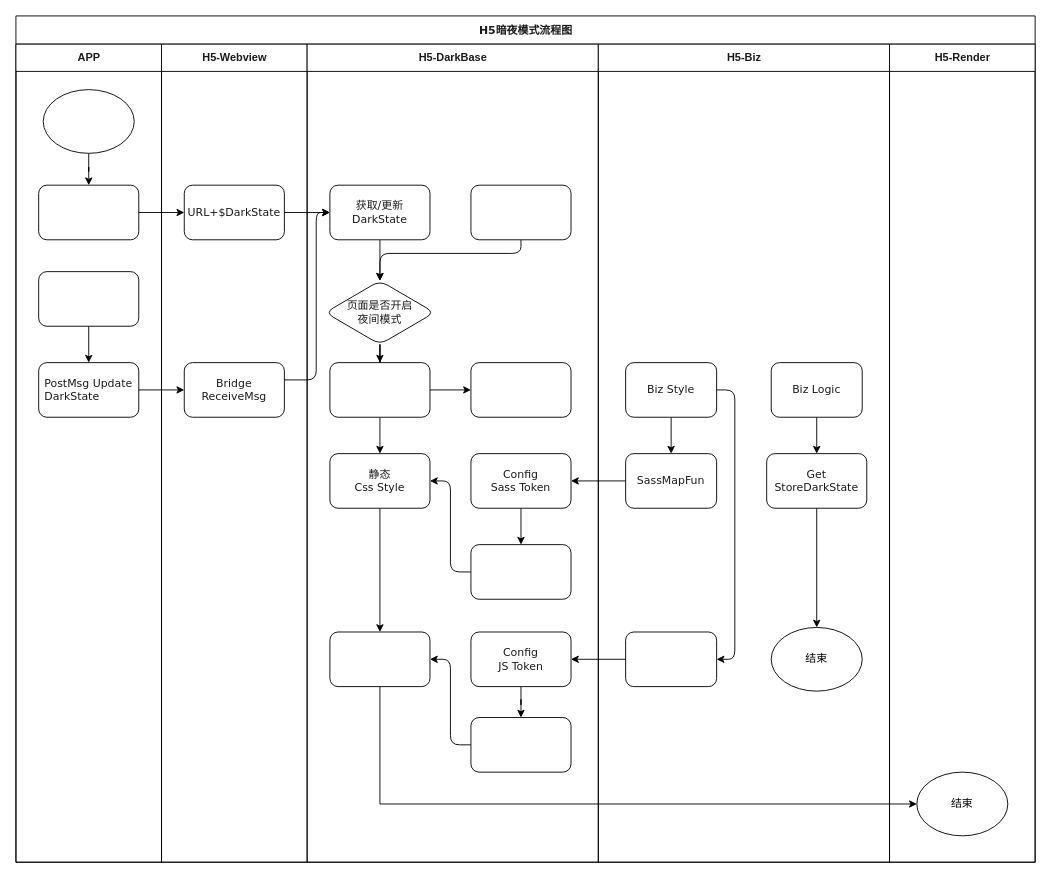
The diagram is 1051 pixels wide and 878 high, and some of its shapes have lost their labels. Here are the shapes that lost their labels. From the top down, the centre of each, then its label:
At pixel 88 121: "开始".
At pixel 88 212: "Init GET DarkState".
At pixel 520 212: "Config DarkWhiteList".
At pixel 88 298: "DarkState Change".
At pixel 379 389: "Set StoreDarkState& bodyClass".
At pixel 520 389: "PageContent 页面遮罩".
At pixel 520 571: "Sass Loader".
At pixel 379 659: "动态 JS Style".
At pixel 671 659: "JSMapFun".
At pixel 520 744: "BaseMixin".
